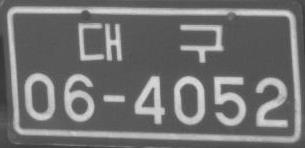0: (173, 74, 205, 125), (23, 72, 55, 120)
2: (255, 75, 288, 127)
4: (134, 75, 165, 124)
5: (213, 75, 246, 125)
6: (62, 73, 95, 123)
대구_D: (77, 21, 225, 63)
